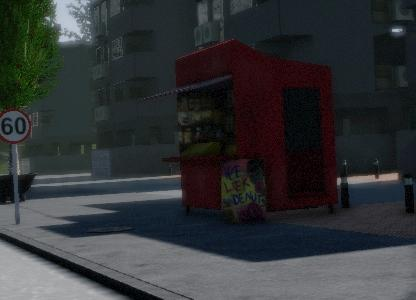Speed_60: (82, 97, 123, 142)
